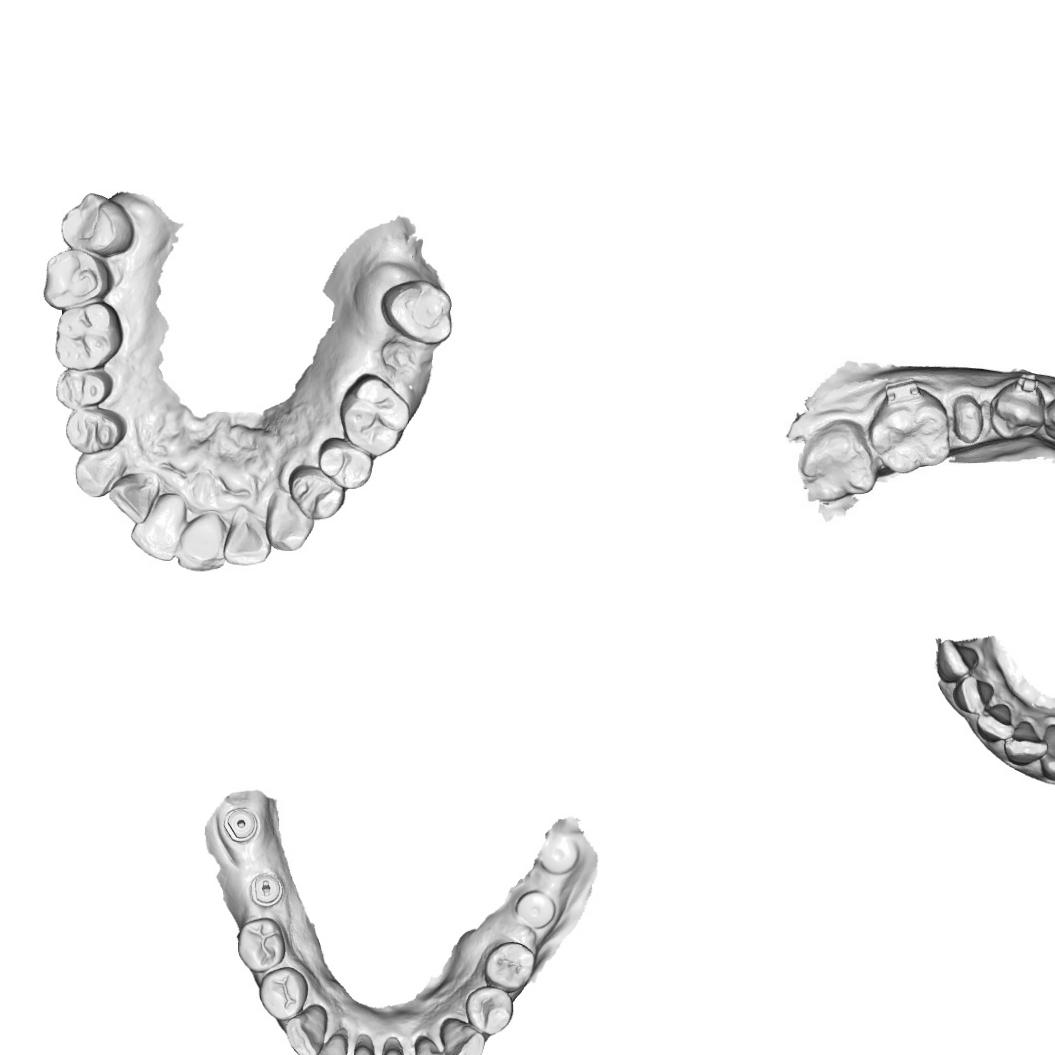canine: (266, 488, 316, 552), (74, 446, 126, 499), (281, 1001, 329, 1055), (438, 1014, 487, 1055), (1039, 393, 1055, 449), (1042, 720, 1055, 781)
crown: (946, 389, 988, 447)
implant: (513, 888, 558, 931), (538, 832, 581, 876), (224, 805, 260, 843)
implant_minus: (248, 872, 284, 909)
incisor: (128, 490, 190, 563), (176, 510, 227, 574), (221, 507, 271, 567), (107, 470, 162, 524), (929, 637, 980, 683), (1003, 721, 1049, 766), (974, 700, 1022, 742), (949, 672, 996, 713), (309, 1030, 351, 1055), (410, 1034, 454, 1055), (342, 1042, 384, 1055)
molar: (336, 370, 413, 459), (795, 420, 877, 503), (872, 392, 951, 471), (379, 275, 454, 347), (58, 190, 136, 258), (52, 299, 125, 371), (40, 247, 112, 312)
premolar: (986, 380, 1046, 443), (287, 464, 346, 521), (256, 963, 310, 1022), (316, 437, 374, 491), (235, 915, 288, 974), (480, 940, 538, 993), (63, 407, 128, 454), (464, 984, 516, 1036), (54, 367, 115, 409)
